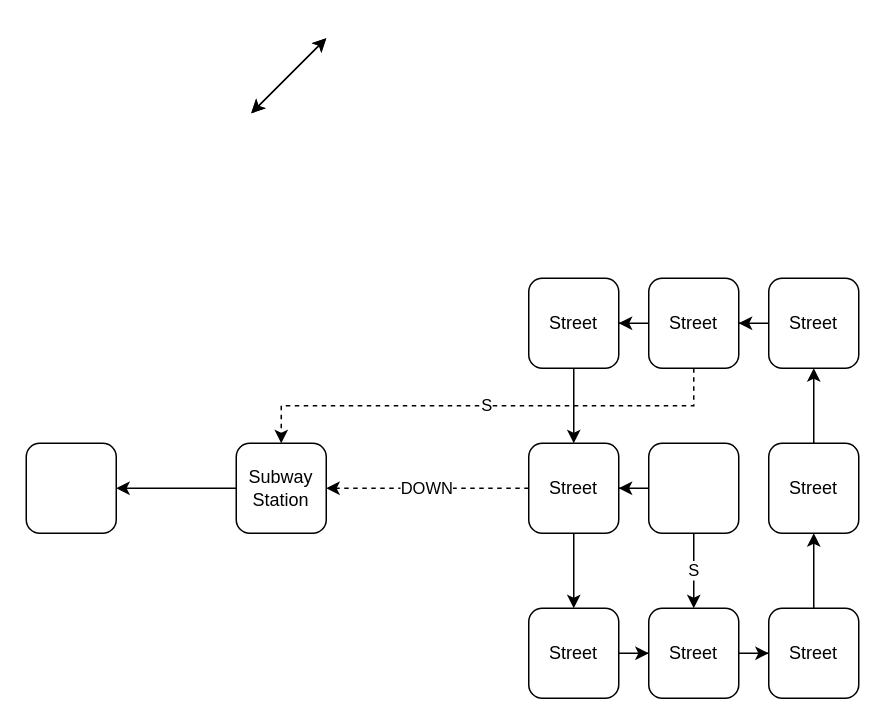
This 885x725 diagram has some shape labels left out. The shapes that lost their labels are listed below. From the top down, each one's centre as x and y in pixels, then its label:
At [70,487]: "Subway Platform".
At [693,487]: "HeloPad".
